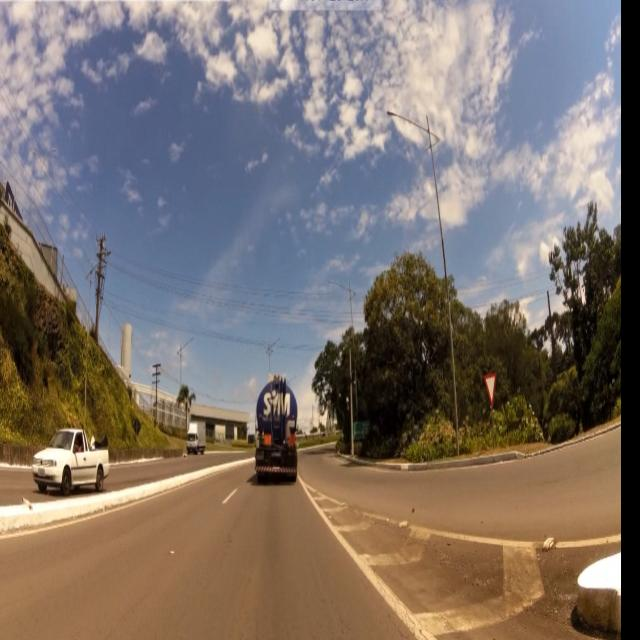R-2: (482, 373, 499, 406)
